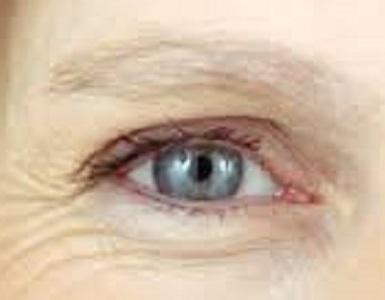open: (50, 101, 365, 267)
